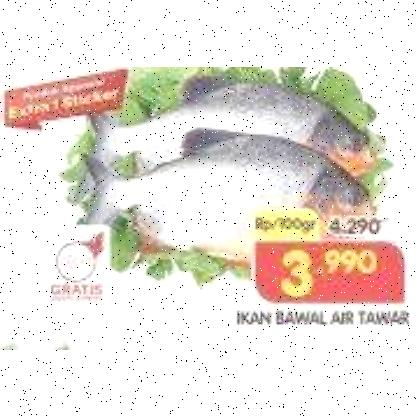ikan-pacu: (96, 134, 364, 254), (97, 89, 375, 165)
